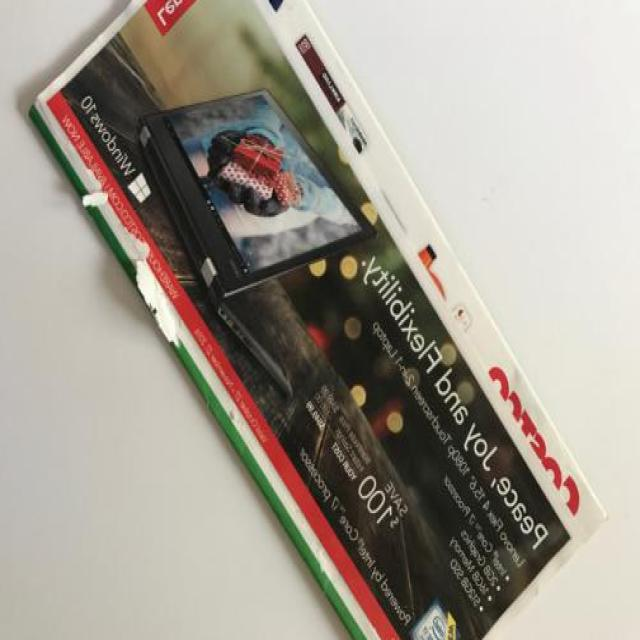kertas: (26, 0, 613, 640)
